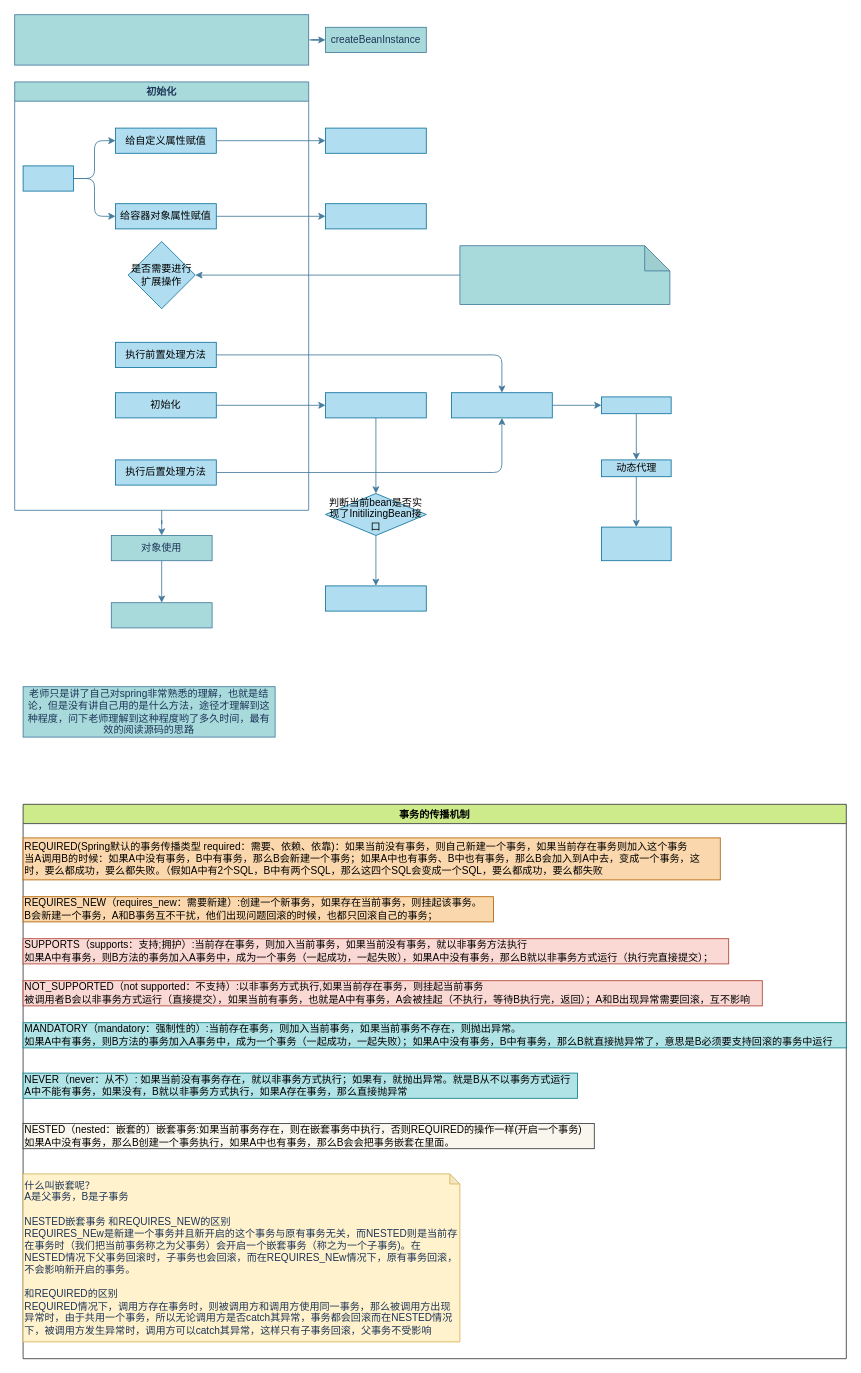
Image size: 861x1373. Some labels were removed from this diagram. Here are the shapes that lost their labels. From the top down, the centre of each, then its label:
At pixel 161 39: "bean的实例化(通过反射的方式创建对象，在堆内存中开辟空间，属性值时默认值)".
At pixel 375 140: "pupulateBean".
At pixel 48 178: "赋值操作".
At pixel 375 216: "invokeAwareMathods".
At pixel 564 274: "现在完成了对象的实例化和属性的赋值，正常情况下可以直接使用了，但是在容器中还不行，还需要进行一下几个步骤".
At pixel 375 405: "invokeInitMethods".
At pixel 501 405: "BeanPostProcessor".
At pixel 636 405: "AOP".
At pixel 636 543: "JDK cjlib".
At pixel 161 615: "对象销毁".
At pixel 375 598: "afterPropertiesSet".
